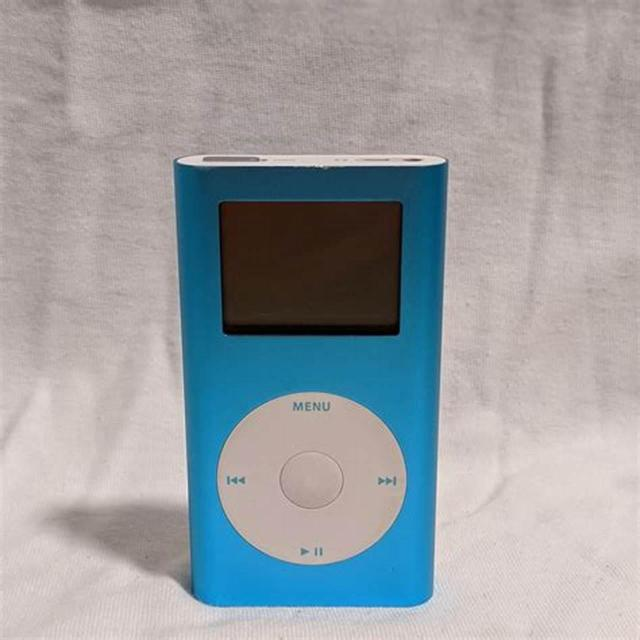Music-Player: (160, 138, 478, 626)
